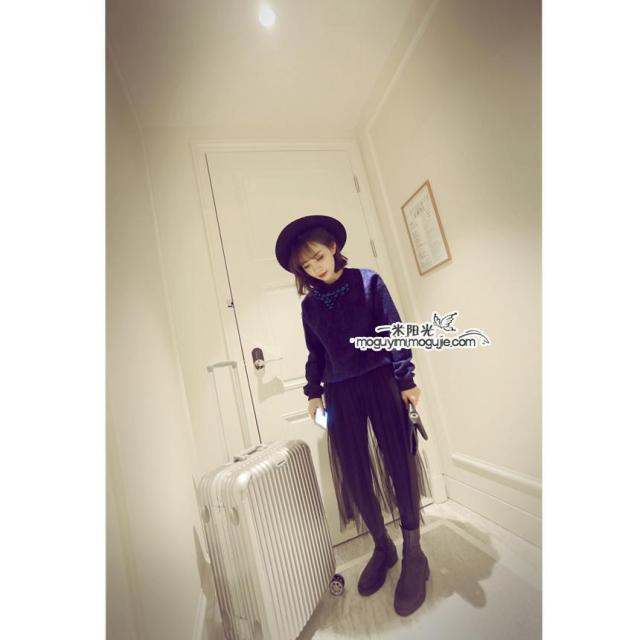long sleeve top: (302, 268, 417, 400)
skirt: (327, 356, 436, 533)
trousers: (325, 357, 421, 549)
